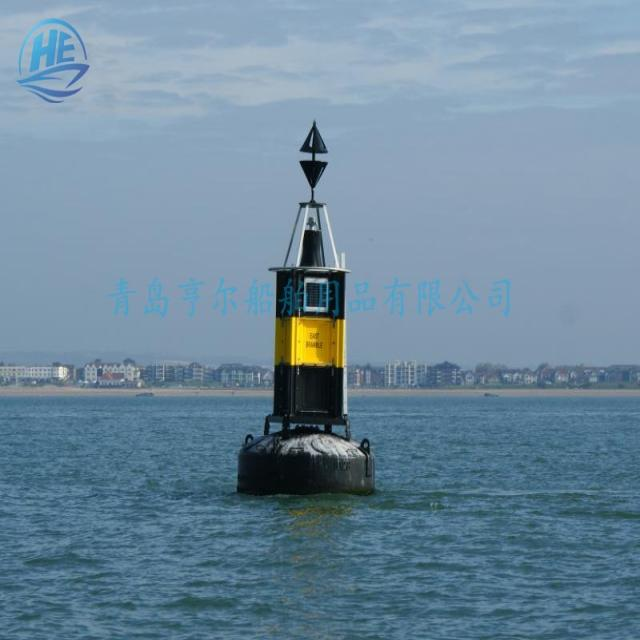buoy: (236, 115, 378, 497)
